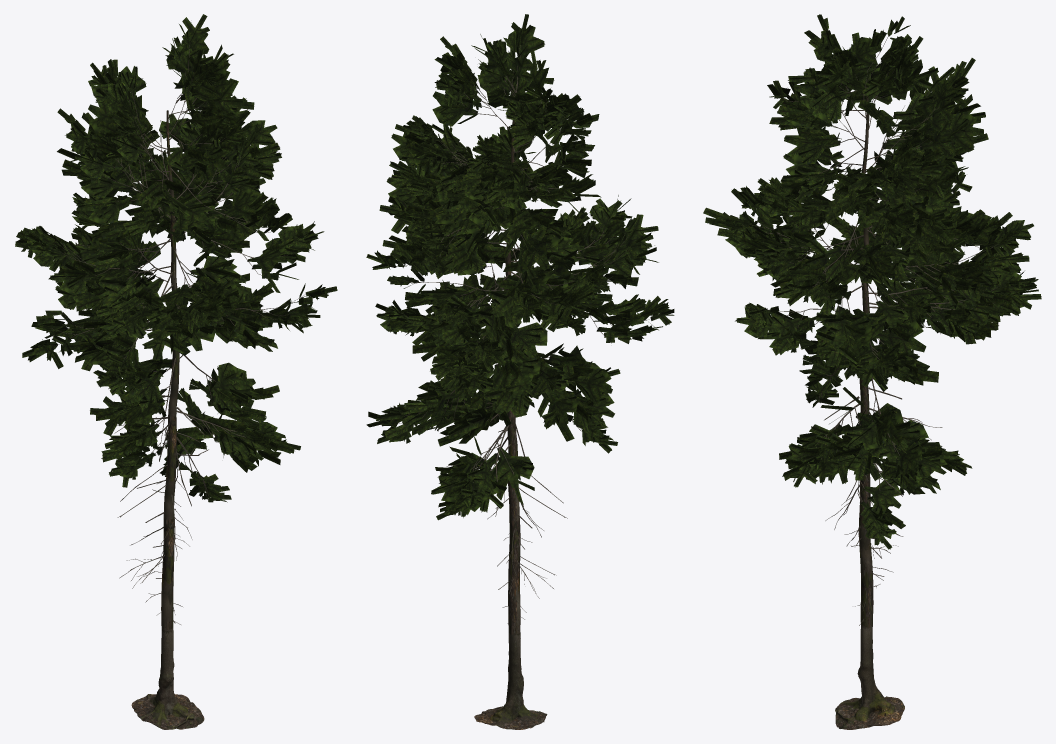
Rendered from fir-b-lod2.glb.
3 views of the same model, side by side, from view 1: azimuth 30°, elevation 25°; view 2: azimuth 150°, elevation 25°; view 3: azimuth 270°, elevation 25° (orthographic). The views are drawn at different scales.
Visible parts, largest first — view 1: fir_b_lod2; view 2: fir_b_lod2; view 3: fir_b_lod2.
Part boxes in pixels (x1=…): fir_b_lod2: x1=15, y1=14, x2=337, y2=729; fir_b_lod2: x1=366, y1=14, x2=674, y2=729; fir_b_lod2: x1=703, y1=14, x2=1041, y2=729.
Bounding box in the file's own units: 5.63 × 14.08 × 6.08.
Materials: 4 (4 with a texture image).
